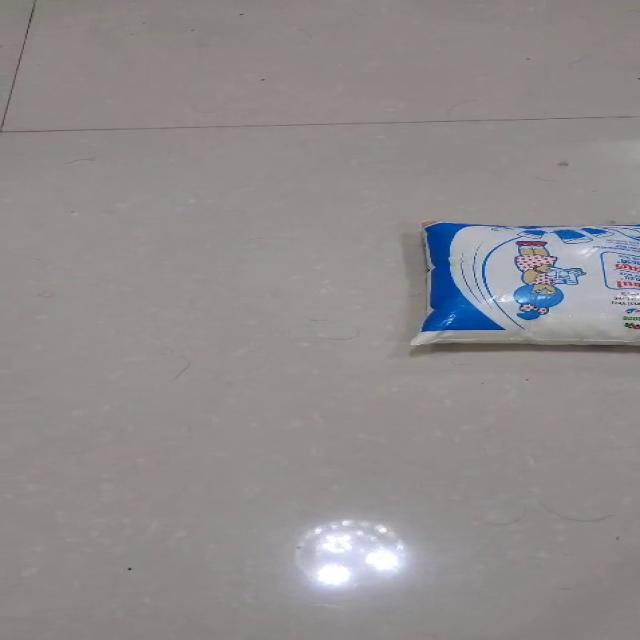plastic: (408, 219, 639, 347)
